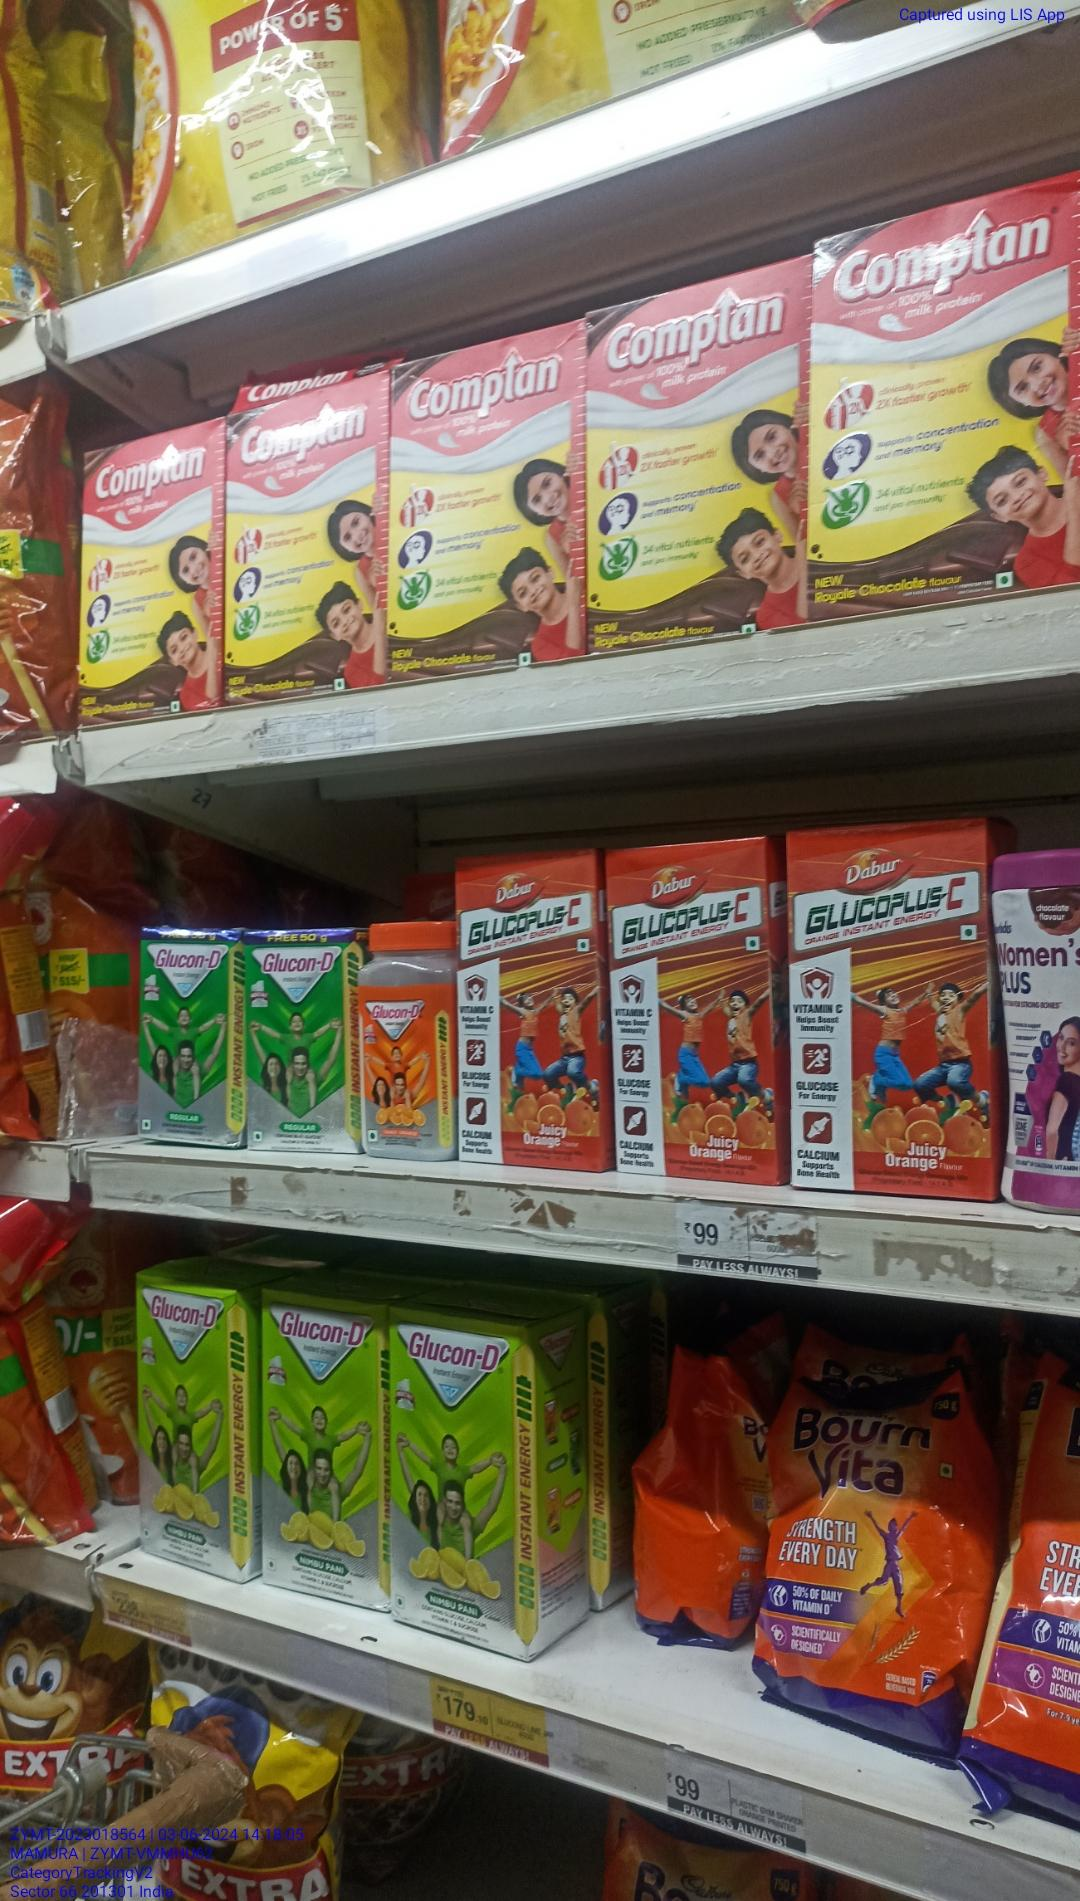BOURN_VITA_750_G_POUCH: (754, 1366, 944, 1751)
COMPLAN_CHOCOLATE_500_GMS_PACK: (814, 228, 1080, 593), (593, 292, 804, 631), (384, 343, 582, 657), (67, 431, 217, 727), (230, 410, 388, 685)
